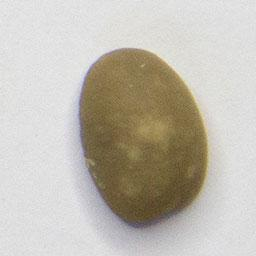premium: (75, 45, 211, 230)
